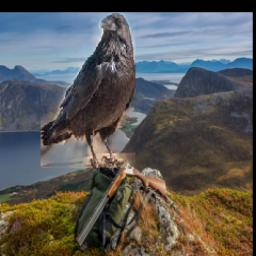Crow: (42, 12, 137, 168)
